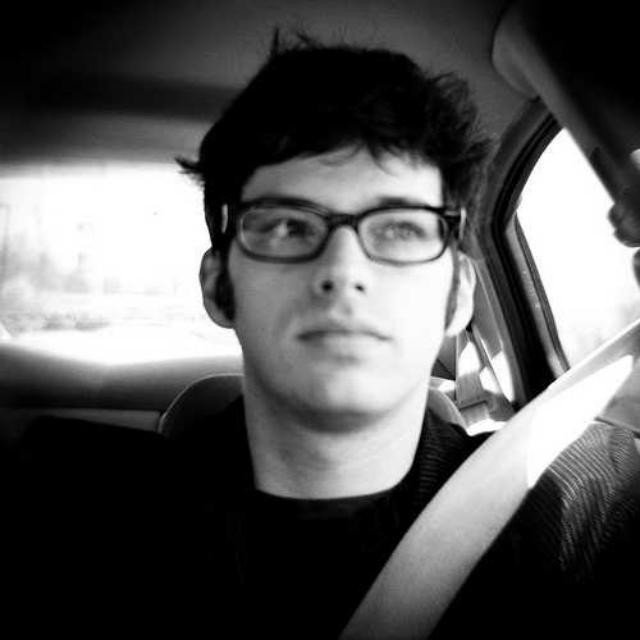SafeDriving: (249, 204, 325, 252), (358, 209, 436, 253)
Seatbelt: (334, 222, 640, 640)
